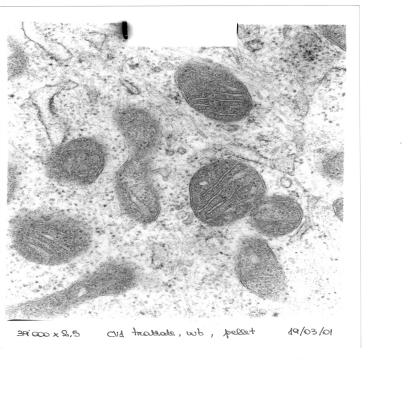mitochondria: (108, 107, 166, 223), (14, 264, 140, 315), (185, 160, 268, 227), (173, 60, 252, 122), (8, 213, 90, 265), (233, 238, 289, 298), (44, 138, 104, 185), (246, 196, 308, 237)
